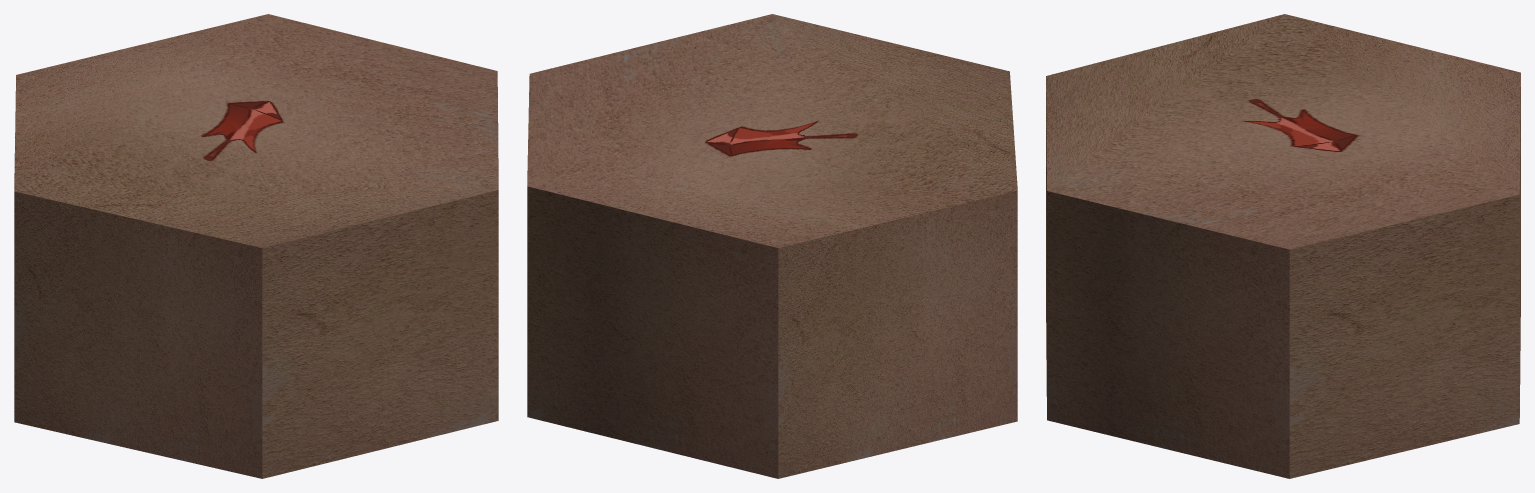
Rendered from 战斗格.fbx.
3 renders of one model, left to right at view 1: azimuth 30°, elevation 25°; view 2: azimuth 150°, elevation 25°; view 3: azimuth 270°, elevation 25°, orthographic.
Parts seen in each view (by area): view 1: Box007; view 2: Box007; view 3: Box007.
Boxes of the visible parts, <box> form: Box007: <box>14,14,498,478</box>; Box007: <box>527,14,1017,478</box>; Box007: <box>1046,14,1520,478</box>.
Bounding box in the file's own units: 8.2 × 3.72 × 6.99.
2 materials, 2 textured.
